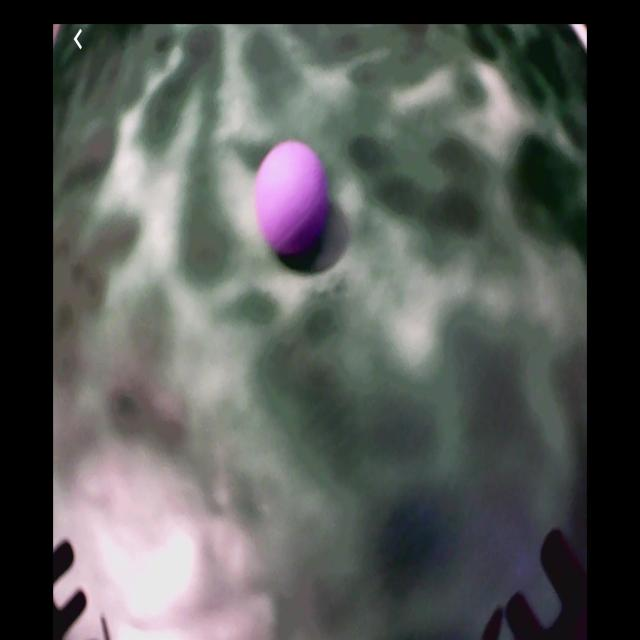ball: (257, 140, 325, 258)
